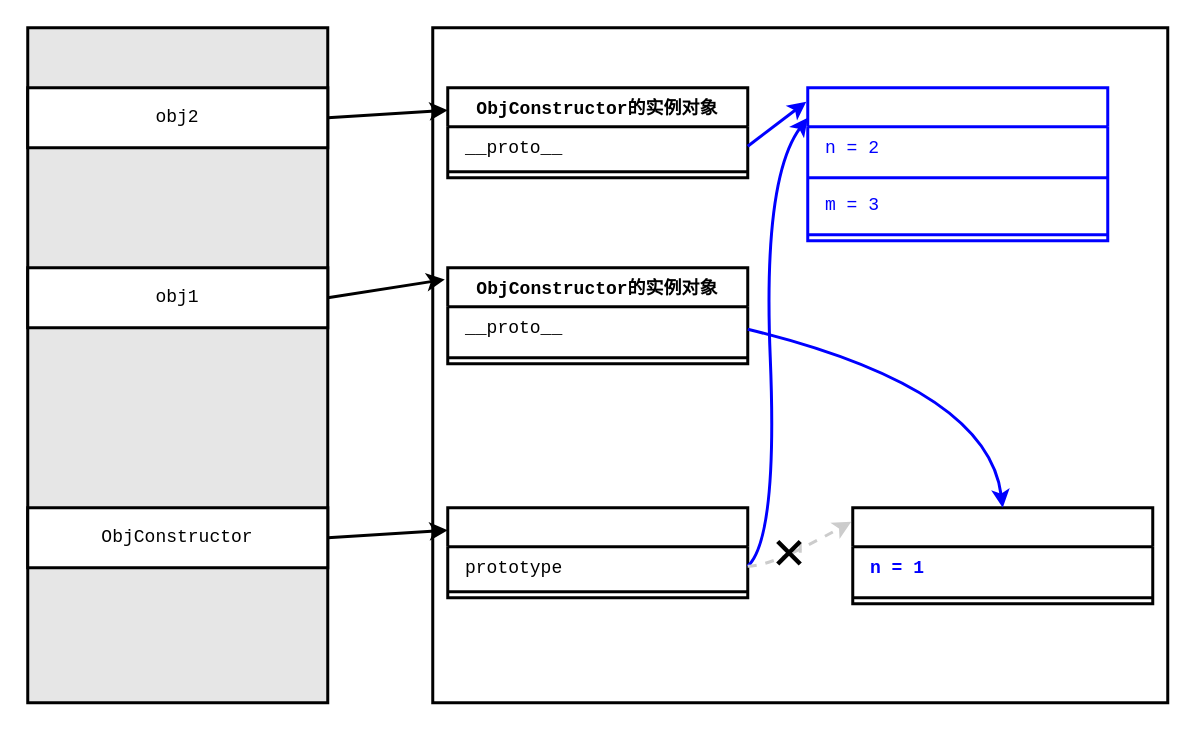
Some shapes in this 1194 by 729 pixel diagram are drawn without their labels. Each missing label, with the box of its shape:
ObjConstructor构造函数对象: (446, 506, 748, 598)
ObjConstructor默认原型对象: (850, 506, 1154, 604)
一个新对象: (806, 86, 1108, 242)
